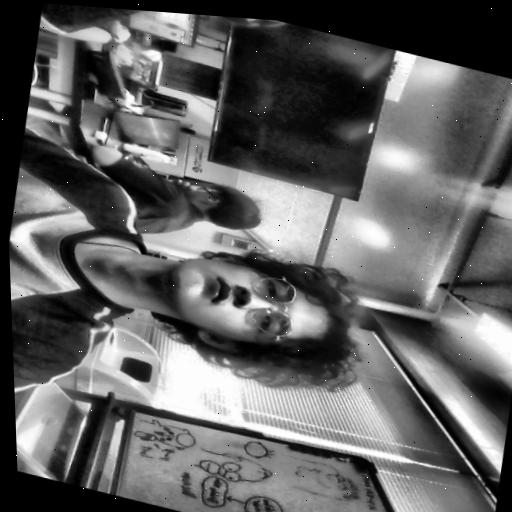Daifuku: (142, 230, 378, 407)
Not Daifuku: (167, 176, 277, 243), (178, 13, 301, 38)
